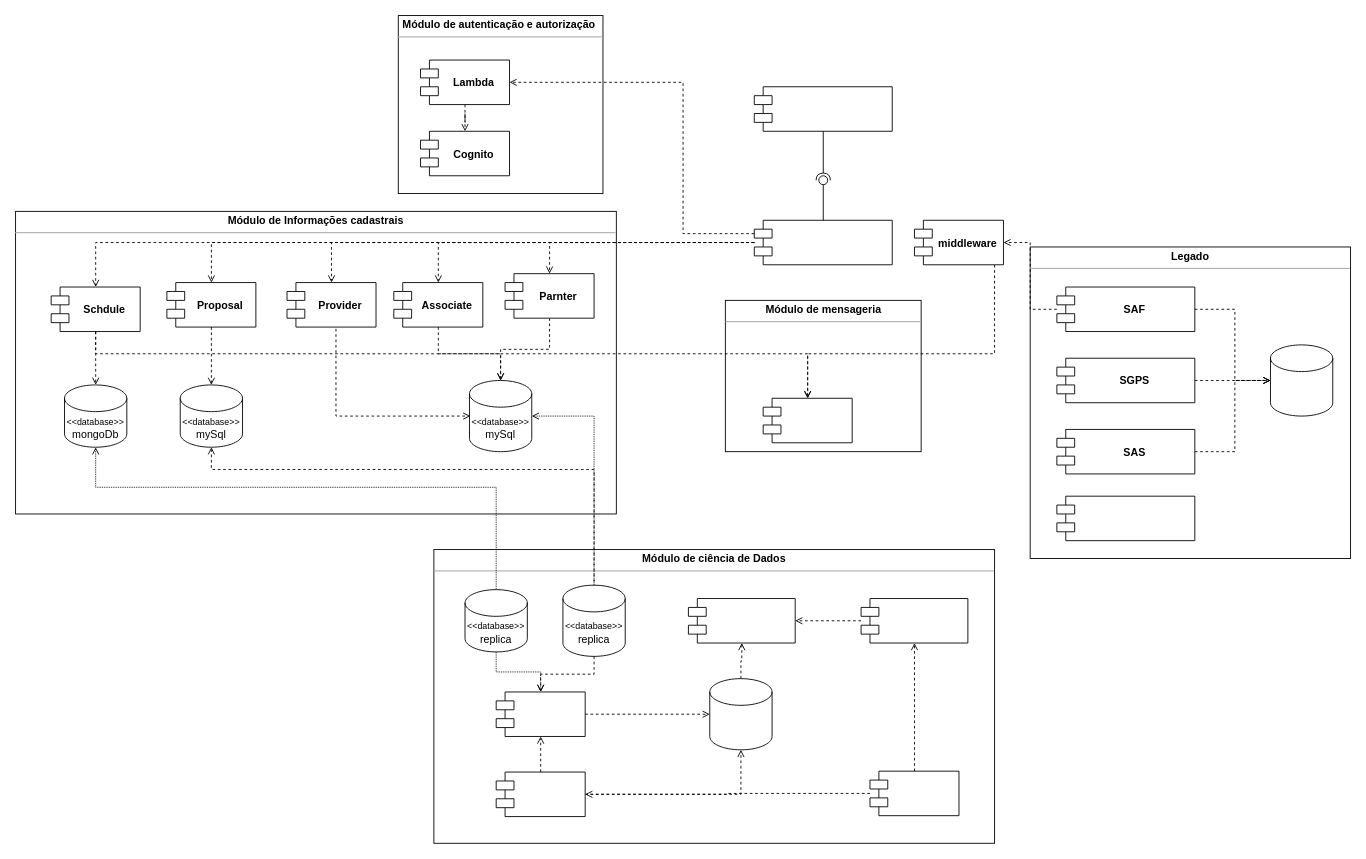
Some shapes in this 1366 by 859 pixel diagram are drawn without their labels. The centre of each missing label's shape, as x and y in pixels:
"<<database>> oracle" goes at point (1301, 380).
"<<database>> readShift" goes at point (740, 714).
"Amazon Athena" goes at point (914, 620).
"Amazon S3" goes at point (914, 793).
"API Gateway" goes at point (822, 242).
"Data pipeline" goes at point (540, 794).
"EMR" goes at point (540, 713).
"Kakfa" goes at point (807, 420).
"Portal" goes at point (822, 108).
"Portal corporativo" goes at point (1125, 518).
"QuickSight" goes at point (741, 620).
